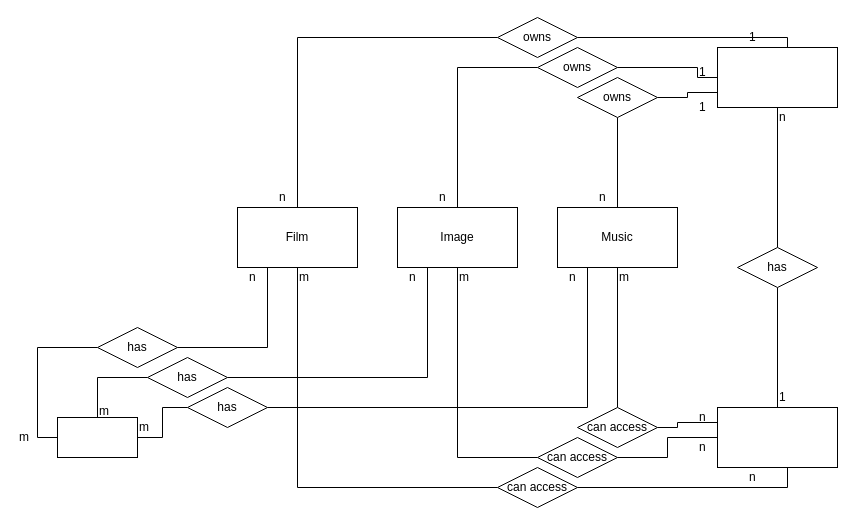
Image size: 855x525. Some labels were removed from this diagram. The shapes that lost their labels are listed below. From the top down, each one's centre as x and y in pixels, then its label:
the point at 777,77: User
the point at 97,437: Actor
the point at 777,437: Role
